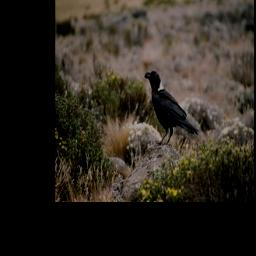Crow: (143, 67, 200, 148)
